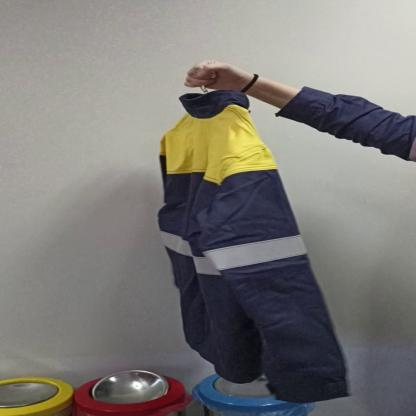C_eletrica: (153, 89, 352, 401)
